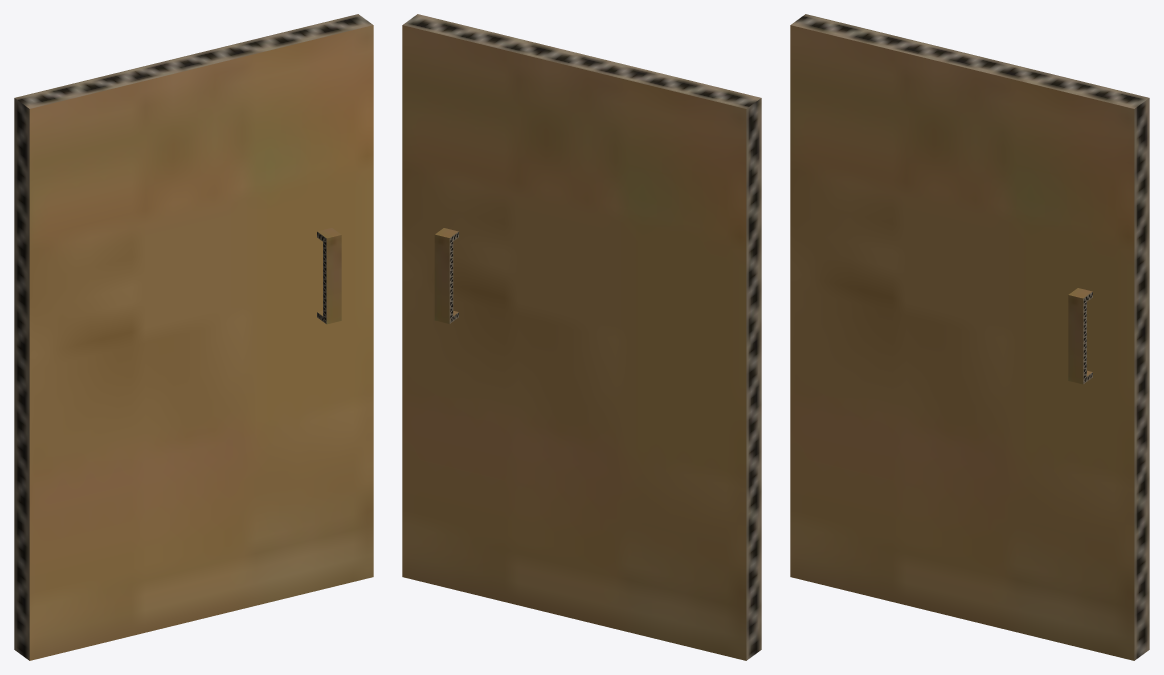
File: men.fbx
3 views of the same model, side by side, from view 1: azimuth 30°, elevation 25°; view 2: azimuth 150°, elevation 25°; view 3: azimuth 330°, elevation 25° (orthographic).
Parts seen in each view (by area): view 1: men; view 2: men; view 3: men.
Boxes of the visible parts, left/top/right/bottom form: men: left=14, top=14, right=373, bottom=660; men: left=402, top=14, right=761, bottom=660; men: left=790, top=14, right=1149, bottom=660.
Bounding box in the file's own units: 0.9843 × 1.51 × 0.1686.
